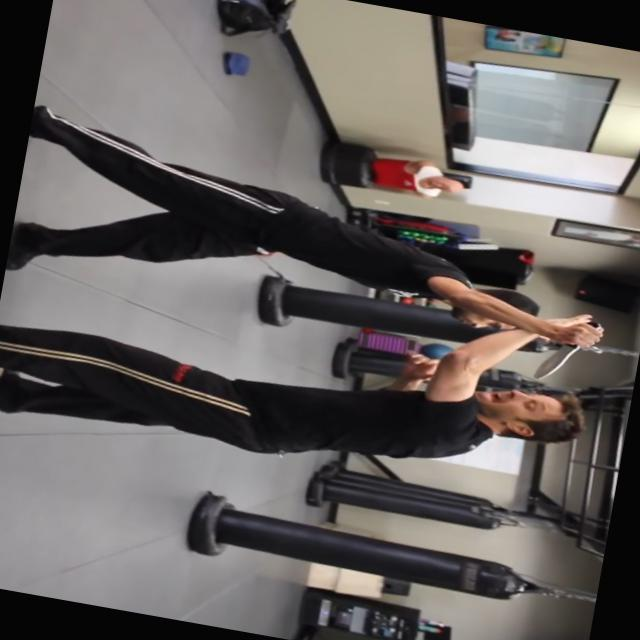knife: (530, 310, 610, 390)
